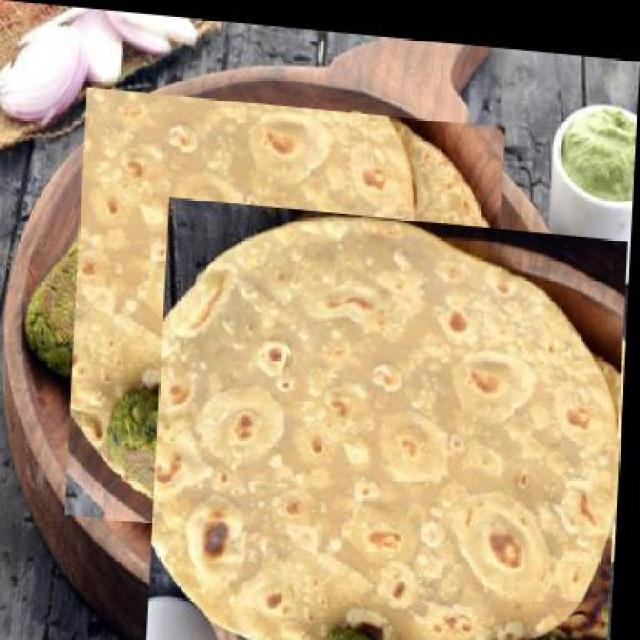chapati: (151, 191, 632, 638), (70, 85, 508, 546)
